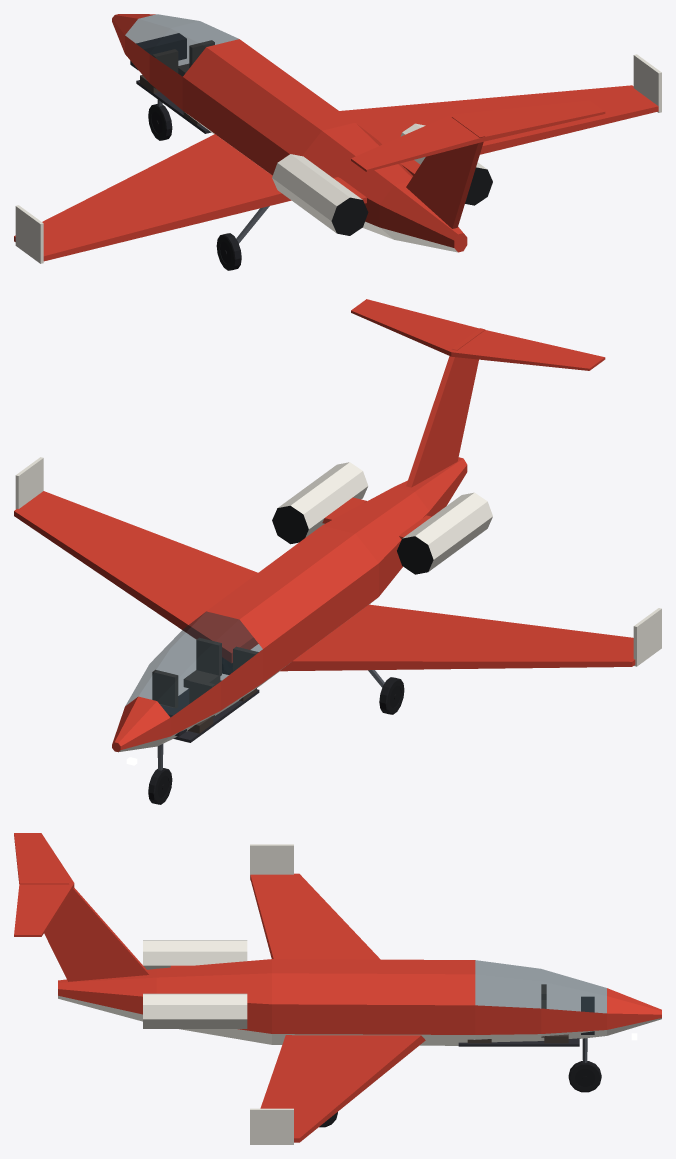
Rendered from jet.glb.
The picture shows the model from 3 angles, top to bottom: view 1: azimuth 30°, elevation 25°; view 2: azimuth 150°, elevation 25°; view 3: azimuth 270°, elevation 25°; orthographic projection. The views are drawn at different scales.
Visible parts, largest first — view 1: jet, jet_wheel_rl, jet_wheel_f; view 2: jet, jet_wheel_rl; view 3: jet, jet_wheel_f.
Boxes of the visible parts, <box> form: jet: <box>14,14,661,263</box>; jet_wheel_rl: <box>216,233,241,270</box>; jet_wheel_f: <box>148,104,172,140</box>; jet: <box>14,299,661,770</box>; jet_wheel_rl: <box>379,677,404,714</box>; jet: <box>14,833,661,1144</box>; jet_wheel_f: <box>568,1061,601,1092</box>.
Bounding box in the file's own units: 11.46 × 4.19 × 11.8.
